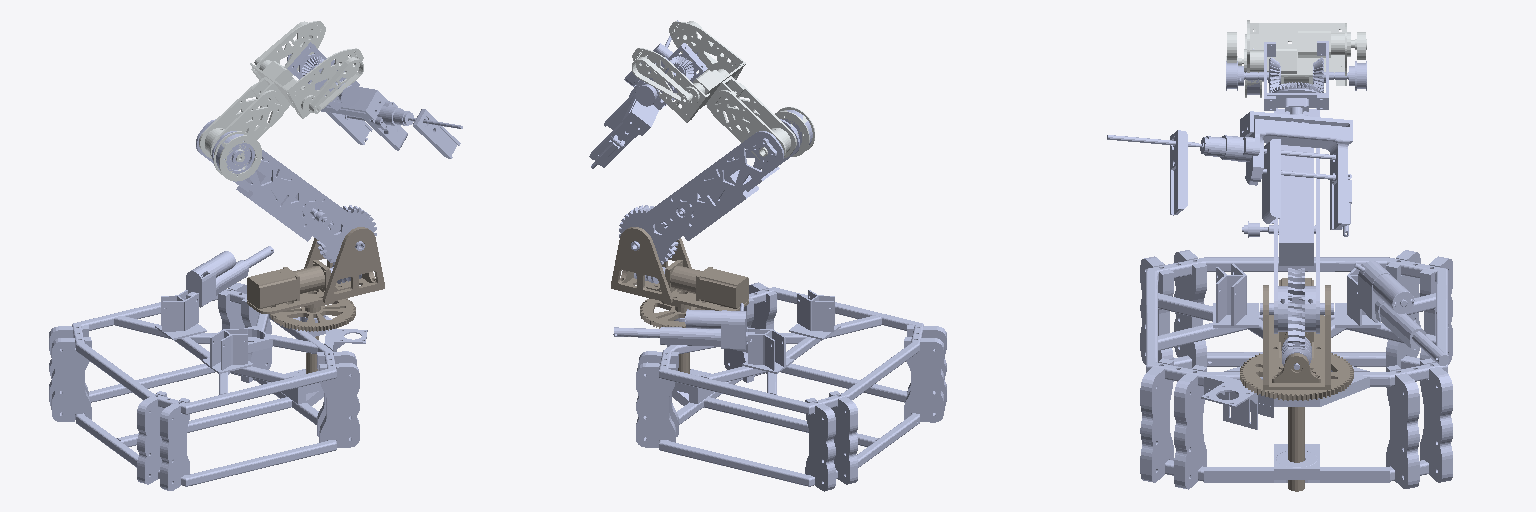
URDF robot description (ARM YPR GRIPPER_7):
<?xml version="1.0" encoding="utf-8"?>
<!-- This URDF was automatically created by SolidWorks to URDF Exporter! Originally created by [author] ([email redacted]) 
     Commit Version: 1.6.0-4-g7f85cfe  Build Version: 1.6.7995.38578
     For more information, please see http://wiki.ros.org/sw_urdf_exporter -->
<robot
  name="ARM YPR GRIPPER_7">
  <link name="worldb"/>
    
    <joint name="world_joint" type="fixed">
      <parent link="worldb"/>
      <child link="base_link"/>
      <origin xyz="0 0 0" rpy="-1.5708 0 0"/>
    </joint>

  <link
    name="base_link">
    <inertial>
      <origin
        xyz="1.12169088699127 -0.121140693558929 -0.213529355221054"
        rpy="0 0 0" />
      <mass
        value="4.50779680589233" />
      <inertia
        ixx="0.0155744669511241"
        ixy="0.000267312829592054"
        ixz="-0.000921990975110573"
        iyy="0.0123110151558508"
        iyz="0.00166823235851846"
        izz="0.0144138530523192" />
    </inertial>
    <visual>
      <origin
        xyz="0 0 0"
        rpy="0 0 0" />
      <geometry>
        <mesh
          filename="../meshes/base_link.STL" />
      </geometry>
      <material
        name="">
        <color
          rgba="0.792156862745098 0.819607843137255 0.933333333333333 1" />
      </material>
    </visual>
    <collision>
      <origin
        xyz="0 0 0"
        rpy="0 0 0" />
      <geometry>
        <mesh
          filename="../meshes/base_link.STL" />
      </geometry>
    </collision>
  </link>
  <link
    name="turntable">
    <inertial>
      <origin
        xyz="0.105763980678447 -0.00089189198876527 -0.0260116131683339"
        rpy="0 0 0" />
      <mass
        value="2.52870378509003" />
      <inertia
        ixx="0.00641134887101375"
        ixy="0.000853146367351283"
        ixz="-9.61006870504373E-06"
        iyy="0.00486617833905661"
        iyz="2.16935043543991E-05"
        izz="0.00929271252291498" />
    </inertial>
    <visual>
      <origin
        xyz="0 0 0"
        rpy="0 0 0" />
      <geometry>
        <mesh
          filename="../meshes/turntable.STL" />
      </geometry>
      <material
        name="">
        <color
          rgba="0.650980392156863 0.619607843137255 0.588235294117647 1" />
      </material>
    </visual>
    <collision>
      <origin
        xyz="0 0 0"
        rpy="0 0 0" />
      <geometry>
        <mesh
          filename="../meshes/turntable.STL" />
      </geometry>
    </collision>
  </link>
  <joint
    name="turntable_joint"
    type="revolute">
    <origin
      xyz="1.35 -0.216 -0.31116"
      rpy="1.5708 -1.1533 3.1416" />
    <parent
      link="base_link" />
    <child
      link="turntable" />
    <axis
      xyz="0 0 -1" />
    <limit
      lower="-3.14"
      upper="3.14"
      effort="0"
      velocity="0" />
  </joint>
  <link
    name="worm_pitch">
    <inertial>
      <origin
        xyz="-0.00975815373258329 -0.119432998209141 0.138678111763514"
        rpy="0 0 0" />
      <mass
        value="3.22088245146173" />
      <inertia
        ixx="0.0280751971325729"
        ixy="-3.59522261295648E-08"
        ixz="-5.70039309070444E-07"
        iyy="0.0158829956773457"
        iyz="0.0120530236922504"
        izz="0.0134222737428643" />
    </inertial>
    <visual>
      <origin
        xyz="0 0 0"
        rpy="0 0 0" />
      <geometry>
        <mesh
          filename="../meshes/worm_pitch.STL" />
      </geometry>
      <material
        name="">
        <color
          rgba="0.792156862745098 0.819607843137255 0.933333333333333 1" />
      </material>
    </visual>
    <collision>
      <origin
        xyz="0 0 0"
        rpy="0 0 0" />
      <geometry>
        <mesh
          filename="../meshes/worm_pitch.STL" />
      </geometry>
    </collision>
  </link>
  <joint
    name="pitch1_joint"
    type="revolute">
    <origin
      xyz="0.0735164068372525 0.077745638479509 -0.151720000000009"
      rpy="1.5707963267949 0 0.417471964024542" />
    <parent
      link="turntable" />
    <child
      link="worm_pitch" />
    <axis
      xyz="-1 0 0" />
    <limit
      lower="-3.14"
      upper="3.14"
      effort="0"
      velocity="0" />
  </joint>
  <link
    name="pulley">
    <inertial>
      <origin
        xyz="-0.0196065460520456 -0.019635619644676 -0.0321128890960279"
        rpy="0 0 0" />
      <mass
        value="1.1765100986821" />
      <inertia
        ixx="0.0013481180306053"
        ixy="-0.000524141829758074"
        ixz="-1.45228372561171E-11"
        iyy="0.0013502733799712"
        iyz="-2.43390960493944E-11"
        izz="0.00206338874473855" />
    </inertial>
    <visual>
      <origin
        xyz="0 0 0"
        rpy="0 0 0" />
      <geometry>
        <mesh
          filename="../meshes/pulley.STL" />
      </geometry>
      <material
        name="">
        <color
          rgba="0.898039215686275 0.917647058823529 0.929411764705882 1" />
      </material>
    </visual>
    <collision>
      <origin
        xyz="0 0 0"
        rpy="0 0 0" />
      <geometry>
        <mesh
          filename="../meshes/pulley.STL" />
      </geometry>
    </collision>
  </link>
  <joint
    name="pitch2_joint"
    type="revolute">
    <origin
      xyz="-0.0599999999999885 -0.289979355471976 0.310703996433991"
      rpy="1.5707963267949 -1.37469687411002 -1.5707963267949" />
    <parent
      link="worm_pitch" />
    <child
      link="pulley" />
    <axis
      xyz="0 0 -1" />
    <limit
      lower="-3.14"
      upper="3.14"
      effort="0"
      velocity="0" />
  </joint>
  <link
    name="pitch">
    <inertial>
      <origin
        xyz="0.0522498739683379 0.0742869890252056 -4.31001591416624E-07"
        rpy="0 0 0" />
      <mass
        value="0.408155014247325" />
      <inertia
        ixx="0.000242488546693066"
        ixy="1.92181816820879E-08"
        ixz="-7.90453575772194E-05"
        iyy="0.000461066849067201"
        iyz="-3.47212845557303E-09"
        izz="0.000428372044396769" />
    </inertial>
    <visual>
      <origin
        xyz="0 0 0"
        rpy="0 0 0" />
      <geometry>
        <mesh
          filename="../meshes/pitch.STL" />
      </geometry>
      <material
        name="">
        <color
          rgba="0.792156862745098 0.819607843137255 0.933333333333333 1" />
      </material>
    </visual>
    <collision>
      <origin
        xyz="0 0 0"
        rpy="0 0 0" />
      <geometry>
        <mesh
          filename="../meshes/pitch.STL" />
      </geometry>
    </collision>
  </link>
  <joint
    name="ypr_pitch_joint"
    type="revolute">
    <origin
      xyz="-0.19051 -0.17768 -0.112"
      rpy="0.90468 -1.5708 0" />
    <parent
      link="pulley" />
    <child
      link="pitch" />
    <axis
      xyz="-1 0 0" />
    <limit
      lower="-3.14"
      upper="3.14"
      effort="0"
      velocity="0" />
  </joint>
  <link
    name="roll">
    <inertial>
      <origin
        xyz="-5.91181088693826E-07 -1.07613049804556E-07 -0.00814969452703318"
        rpy="0 0 0" />
      <mass
        value="0.305019859228966" />
      <inertia
        ixx="0.000221896838297734"
        ixy="0.000130666261112019"
        ixz="1.53267284145253E-09"
        iyy="0.000223982238707175"
        iyz="4.69145175936307E-09"
        izz="0.000389054925388365" />
    </inertial>
    <visual>
      <origin
        xyz="0 0 0"
        rpy="0 0 0" />
      <geometry>
        <mesh
          filename="../meshes/roll.STL" />
      </geometry>
      <material
        name="">
        <color
          rgba="0.792156862745098 0.819607843137255 0.933333333333333 1" />
      </material>
    </visual>
    <collision>
      <origin
        xyz="0 0 0"
        rpy="0 0 0" />
      <geometry>
        <mesh
          filename="../meshes/roll.STL" />
      </geometry>
    </collision>
  </link>
  <joint
    name="roll"
    type="continuous">
    <origin
      xyz="0.05225 0.069756 0"
      rpy="1.5708 -1.1062 0" />
    <parent
      link="pitch" />
    <child
      link="roll" />
    <axis
      xyz="0 0 1" />
    <limit
      lower="-3.14"
      upper="3.14"
      effort="0"
      velocity="0" />
  </joint>
  <link
    name="grip">
    <inertial>
      <origin
        xyz="-0.0264212696817925 7.21644966006352E-15 0.0519403659924382"
        rpy="0 0 0" />
      <mass
        value="0.134543517946272" />
      <inertia
        ixx="5.22930570804675E-05"
        ixy="1.78215732102305E-18"
        ixz="-2.24360153272595E-06"
        iyy="0.000148952960809367"
        iyz="5.59041745187838E-20"
        izz="0.000126256855074672" />
    </inertial>
    <visual>
      <origin
        xyz="0 0 0"
        rpy="0 0 0" />
      <geometry>
        <mesh
          filename="../meshes/grip.STL" />
      </geometry>
      <material
        name="">
        <color
          rgba="0.792156862745098 0.819607843137255 0.933333333333333 1" />
      </material>
    </visual>
    <collision>
      <origin
        xyz="0 0 0"
        rpy="0 0 0" />
      <geometry>
        <mesh
          filename="../meshes/grip.STL" />
      </geometry>
    </collision>
  </link>
  <joint
    name="grip"
    type="fixed">
    <origin
      xyz="0.086479 -0.086479 -0.11021"
      rpy="2.3562 -1.5708 0" />
    <parent
      link="roll" />
    <child
      link="grip" />
    <axis
      xyz="0 0 -1" />
    <limit
      lower="-3.14"
      upper="3.14"
      effort="0"
      velocity="0" />
  </joint>
</robot>

--- Facts derived from the render (not from the file) ---
Views: 3 orthographic renders of the robot side by side, from view 1: azimuth 30°, elevation 25°; view 2: azimuth 150°, elevation 25°; view 3: azimuth 270°, elevation 25°.
Model ARM YPR GRIPPER_7 with 8 links and 7 joints (4 revolute, 1 continuous, 2 fixed), rooted at worldb, posed every joint at zero.
Visible links, largest first — view 1: base_link, pulley, turntable, worm_pitch, pitch, roll, grip; view 2: base_link, pulley, worm_pitch, turntable, pitch, roll; view 3: base_link, pitch, worm_pitch, turntable, pulley, roll, grip.
Boxes of the visible links, x1,y1,x2,y2 form: base_link: [49, 246, 367, 490]; pulley: [199, 21, 363, 181]; turntable: [247, 227, 384, 373]; worm_pitch: [196, 119, 376, 283]; pitch: [287, 42, 413, 150]; roll: [302, 56, 402, 138]; grip: [393, 109, 462, 158]; base_link: [613, 282, 946, 491]; pulley: [632, 21, 814, 159]; worm_pitch: [619, 110, 812, 283]; turntable: [611, 227, 748, 373]; pitch: [589, 43, 707, 168]; roll: [590, 56, 703, 167]; base_link: [1140, 250, 1452, 489]; pitch: [1200, 41, 1366, 236]; worm_pitch: [1242, 49, 1333, 369]; turntable: [1240, 278, 1353, 491]; pulley: [1226, 20, 1366, 97]; roll: [1223, 57, 1366, 235]; grip: [1107, 130, 1225, 215].
Bounding box of the posed robot: 0.7921 × 0.5621 × 0.8504 m (x, y, z).
7 mesh visuals loaded from 7 distinct referenced files (7 binary STL).
